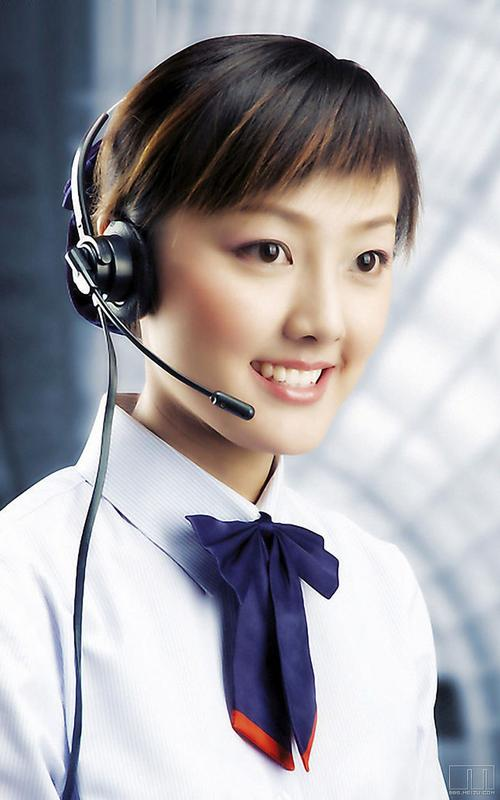no_mask: (64, 14, 422, 455)
